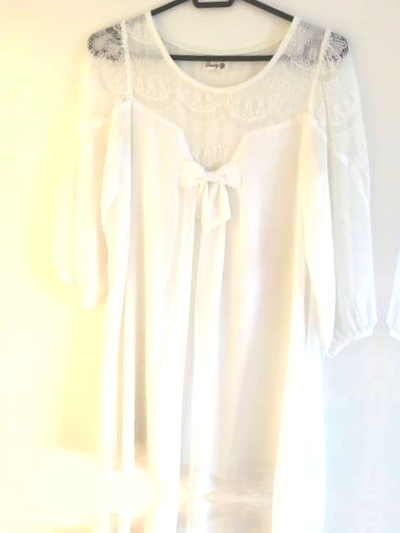Dress: (21, 5, 390, 505), (0, 489, 363, 533), (381, 26, 400, 525), (354, 509, 400, 533)
